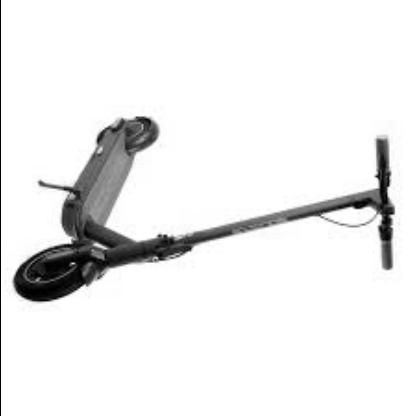bike: (14, 115, 399, 303)
